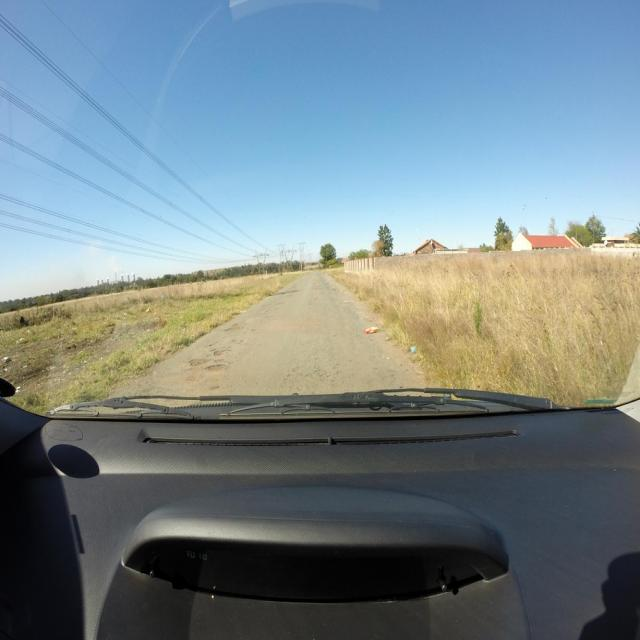Pothole: (188, 358, 209, 367), (206, 363, 226, 372), (225, 324, 244, 331), (213, 349, 231, 356), (275, 302, 287, 304)
